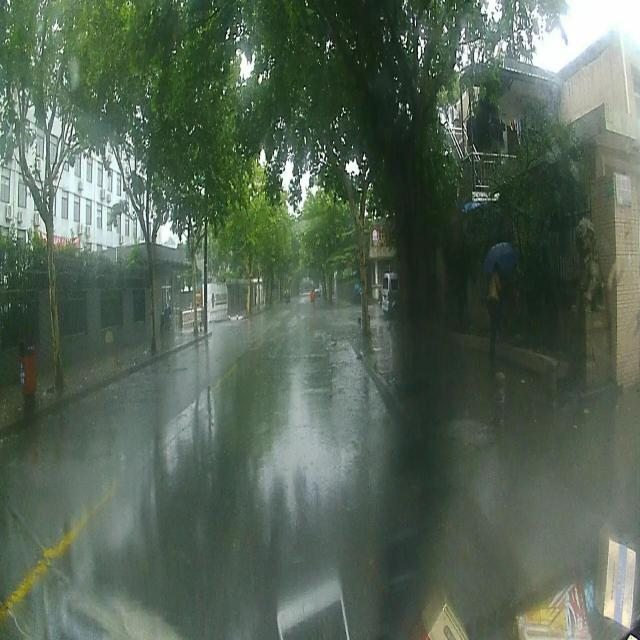car: (379, 271, 404, 310)
